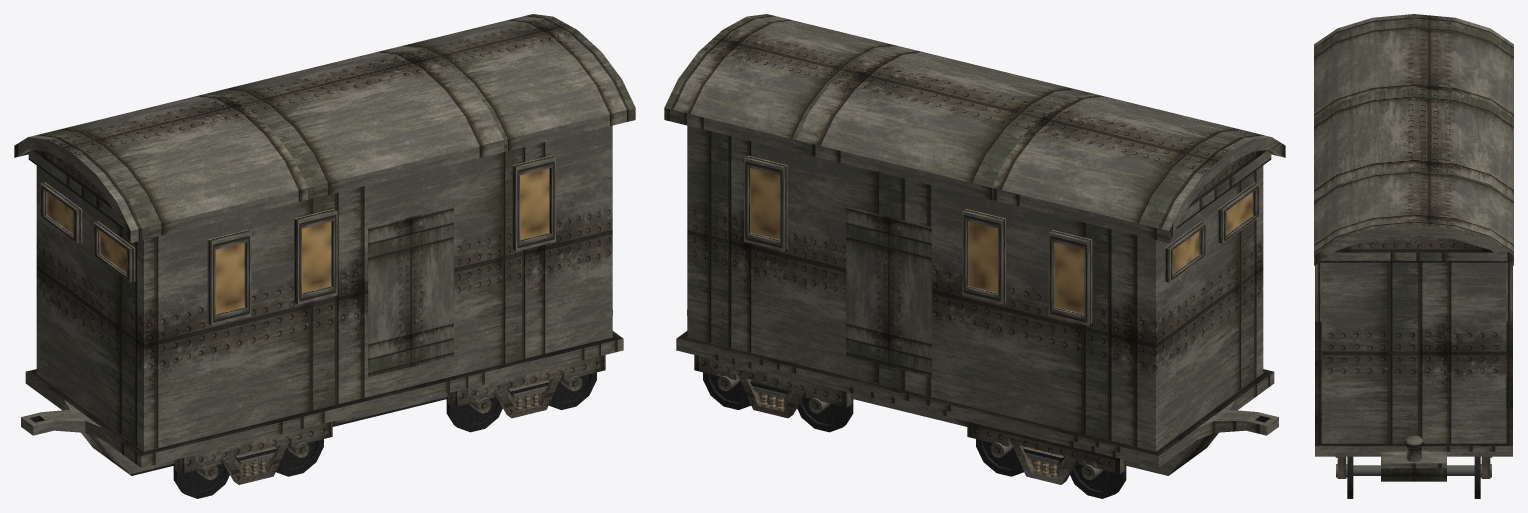
The model's file is vagao-2.fbx.
3 views of the same model, side by side, from view 1: azimuth 30°, elevation 25°; view 2: azimuth 150°, elevation 25°; view 3: azimuth 270°, elevation 25° (orthographic). The views are drawn at different scales.
Visible parts, largest first — view 1: Cube.003; view 2: Cube.003; view 3: Cube.003.
Boxes of the visible parts, x1,y1,x2,y2 form: Cube.003: (14, 14, 635, 498); Cube.003: (664, 14, 1285, 498); Cube.003: (1314, 14, 1513, 498).
Bounding box in the file's own units: 6.23 × 3.56 × 2.22.
1 material, 1 textured.
